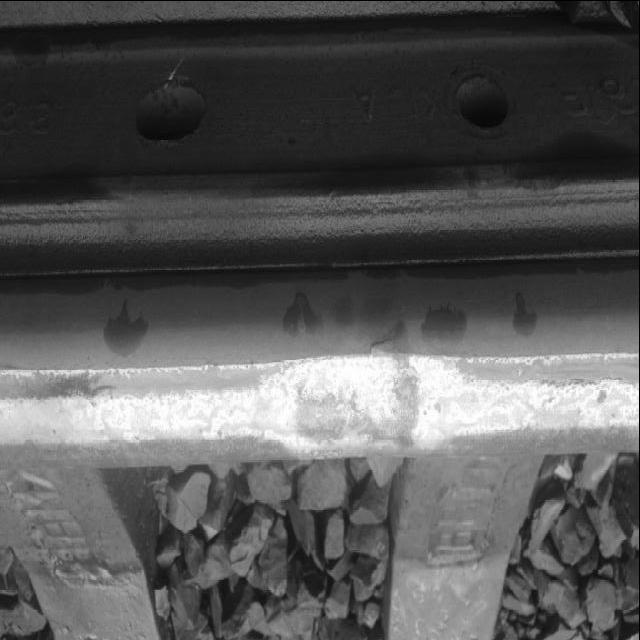broken_rail_medium: (520, 375, 637, 390), (368, 330, 402, 362)
